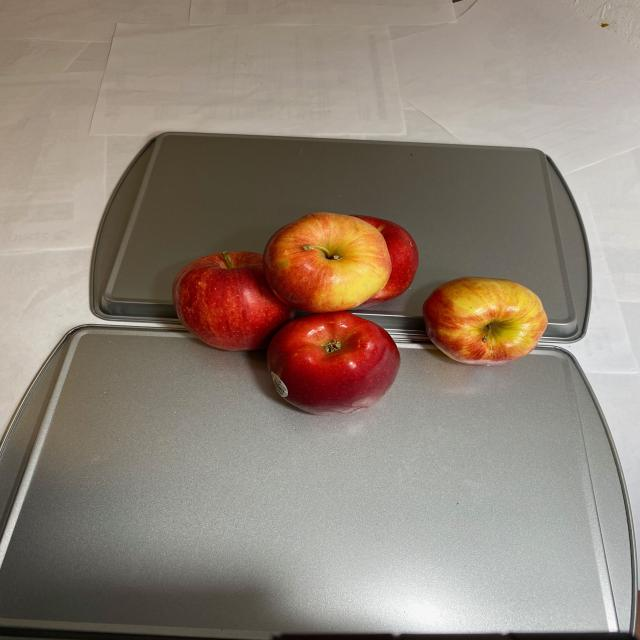apple: (167, 212, 545, 414)
